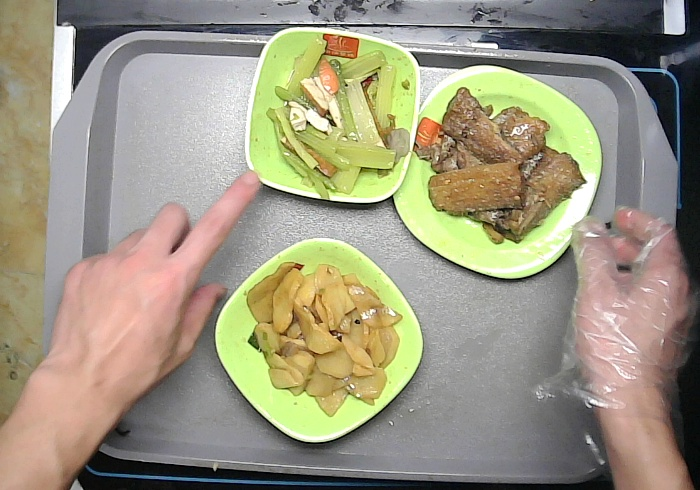SHKJ-Lv_Se_Cai_Die: (213, 234, 429, 449)
SHKJ-Lv_Se_Si_Fang_Cai_Die: (394, 63, 608, 285)
SHKJ-Lv_Se_Xiao_Fang_Die: (240, 22, 419, 209)
